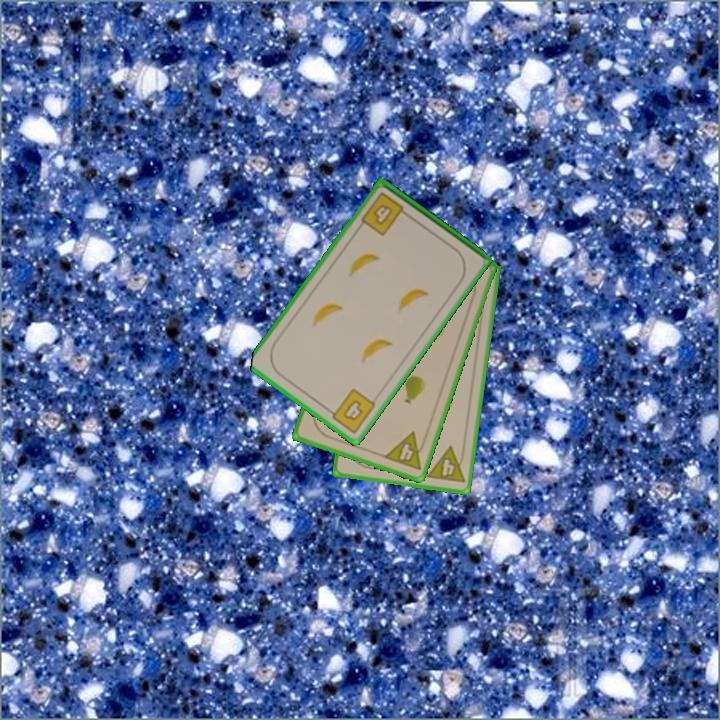4b: (323, 385, 379, 437), (357, 188, 412, 239)
4p: (380, 428, 430, 473), (423, 443, 468, 486)
